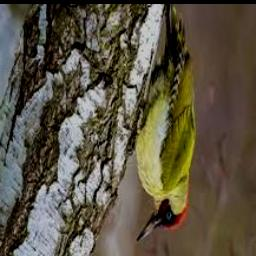Woodpecker: (125, 4, 197, 242)
